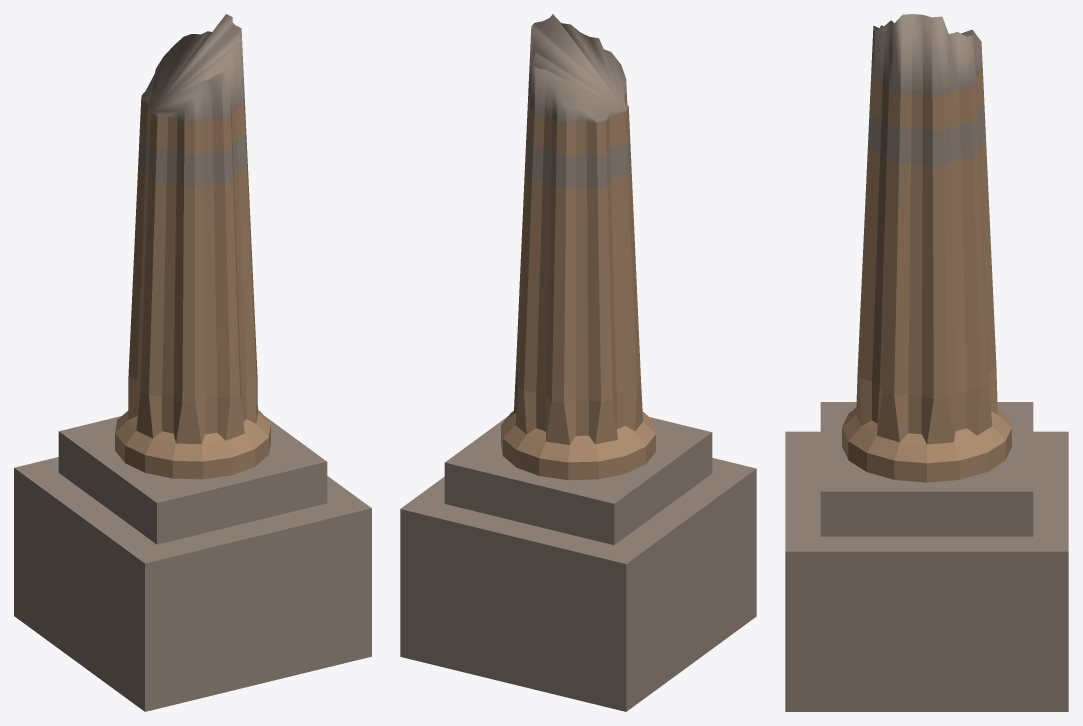
File: Column_04_Broken_02.fbx
The picture shows the model from 3 angles, left to right: view 1: azimuth 30°, elevation 25°; view 2: azimuth 150°, elevation 25°; view 3: azimuth 270°, elevation 25°; orthographic projection. The views are drawn at different scales.
Visible parts, largest first — view 1: Cylinder; view 2: Cylinder; view 3: Cylinder.
Boxes of the visible parts, x1,y1,x2,y2 form: Cylinder: (14,14,371,711); Cylinder: (400,14,756,711); Cylinder: (785,14,1068,711).
Bounding box in the file's own units: 200 × 512 × 200.
